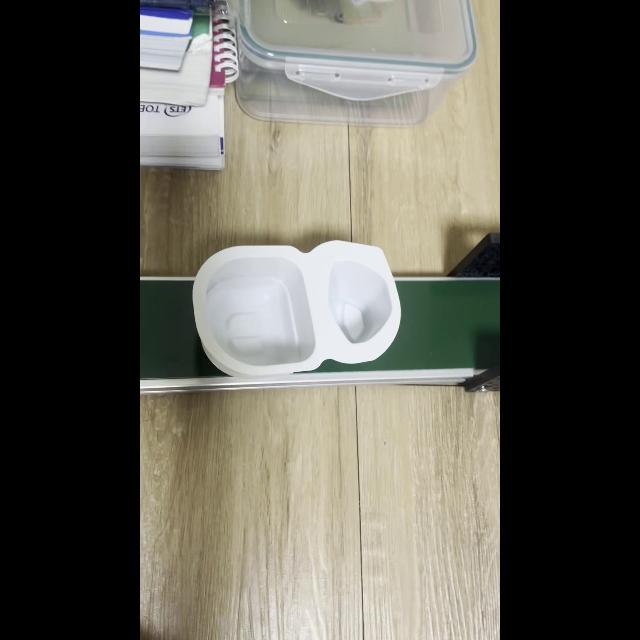clean: (194, 242, 400, 376)
